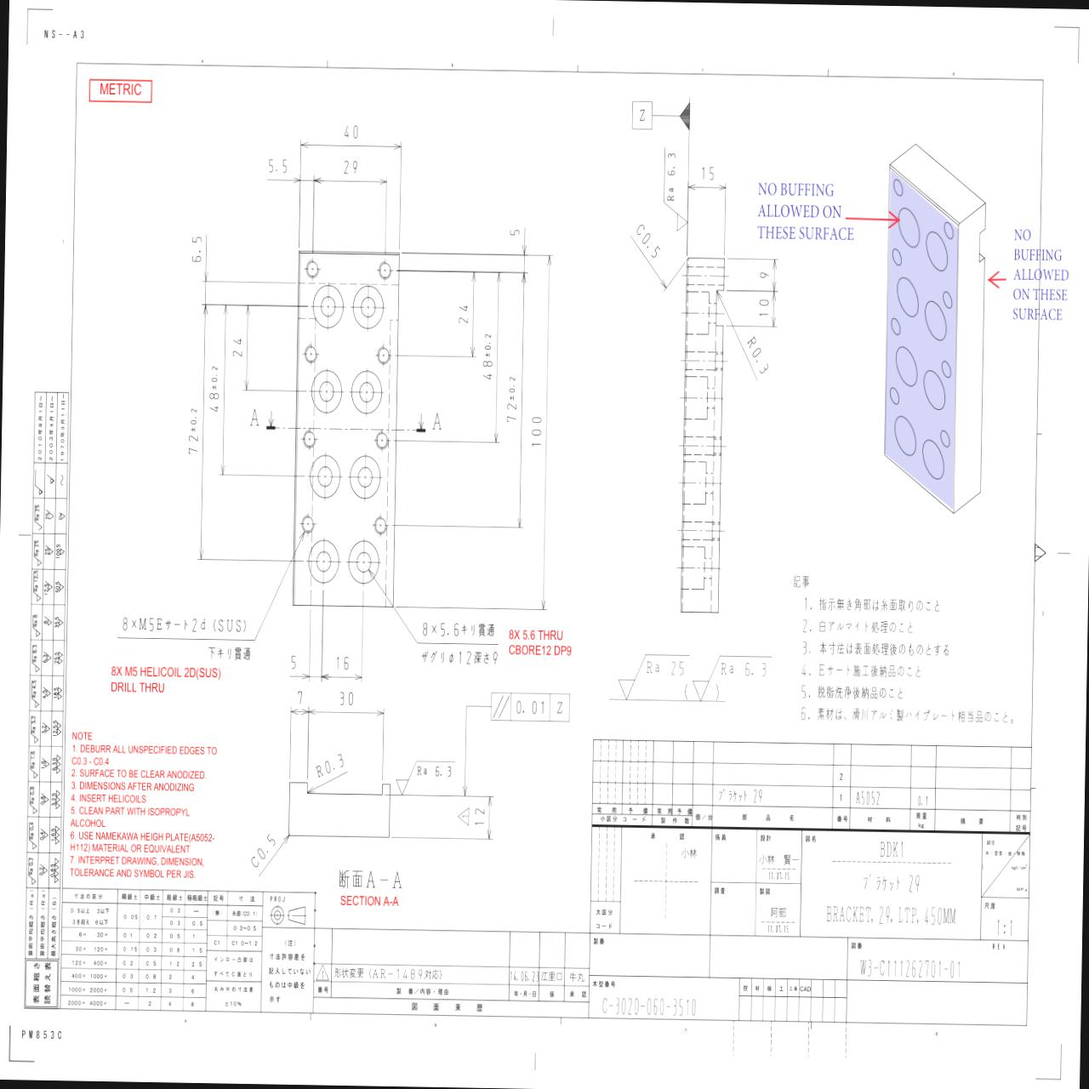basic_dimension: (188, 407, 200, 455), (209, 365, 220, 412), (483, 334, 493, 380), (507, 377, 517, 423), (267, 157, 288, 173), (531, 416, 542, 446), (191, 236, 202, 262), (474, 807, 485, 825), (343, 160, 357, 174), (340, 691, 353, 706), (702, 166, 714, 182), (458, 305, 468, 324), (345, 125, 358, 139), (336, 656, 349, 670), (232, 338, 242, 356), (759, 299, 769, 316), (509, 228, 521, 237), (291, 655, 296, 670), (297, 690, 302, 705), (759, 273, 770, 278)
datum_symbol: (632, 101, 690, 132)
dimension_chamfer_symbol: (634, 220, 663, 260), (249, 832, 276, 872)
dimension_metric_symbol: (138, 616, 148, 634)
dimension_radius_symbol: (747, 336, 770, 375), (315, 753, 345, 779)
gdt_frame_symbol: (489, 690, 572, 724)
gdt_parallelism_symbol: (492, 695, 510, 719)
revision_triangle_symbol: (457, 807, 469, 826)
surface_finish_symbol: (689, 648, 777, 716), (614, 649, 695, 707), (393, 757, 460, 803), (664, 147, 689, 232)
